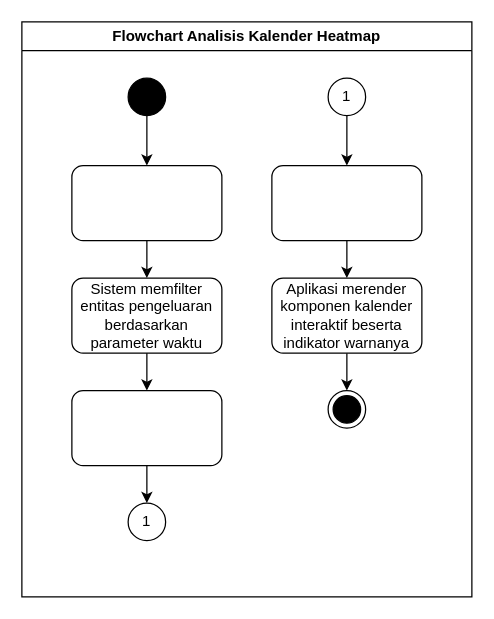
This 494x619 diagram has some shape labels left out. The centre of each missing label's shape, as x and y in pixels:
"Melakukan iterasi agregasi jumlah pengeluaran pada setiap harinya" belongs at (x=146, y=427).
"Sistem menerima parameter bulan dan tahun" belongs at (x=146, y=202).
"Sistem mengubah agregat transaksi harian menjadi skala intensitas (Heatmap)" belongs at (x=346, y=202).
